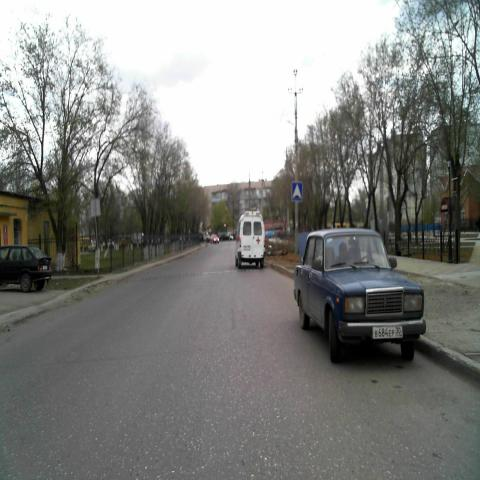5_20: (292, 180, 302, 201)
